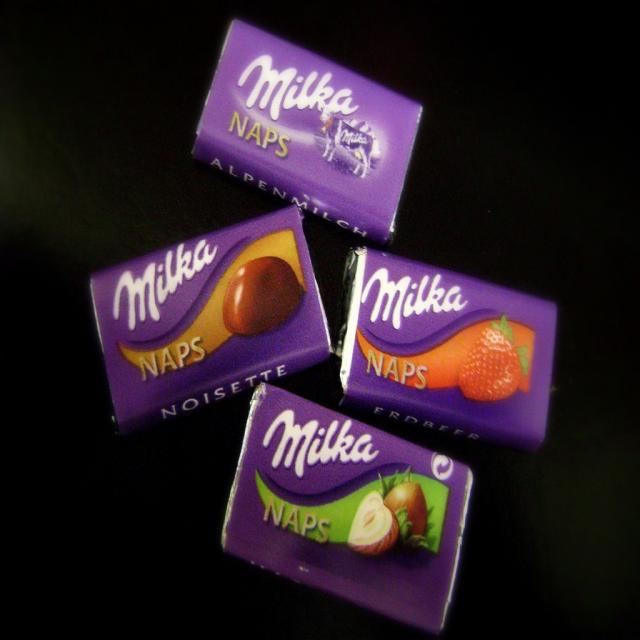milka: (237, 48, 388, 180), (113, 237, 220, 330), (261, 405, 380, 483), (362, 265, 473, 335)
